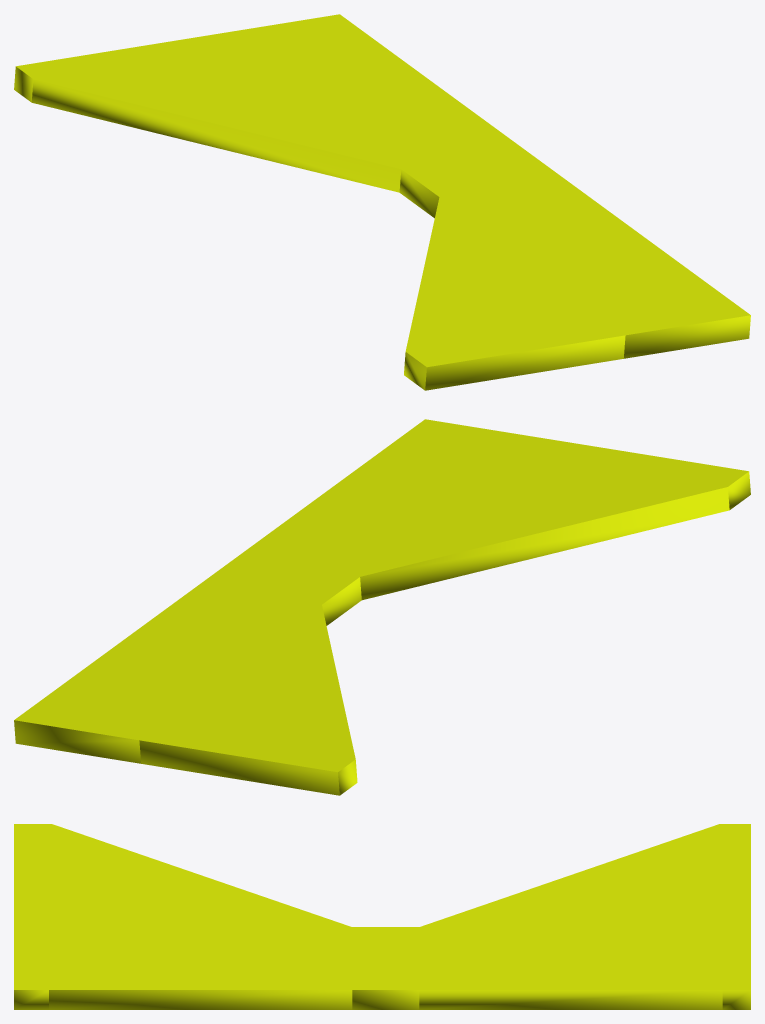
Rendered from Manual_Board.fbx.
3 views of the same model, one above another, from view 1: azimuth 30°, elevation 25°; view 2: azimuth 150°, elevation 25°; view 3: azimuth 270°, elevation 25° (orthographic). The views are drawn at different scales.
Parts seen in each view (by area): view 1: Manual_Board; view 2: Manual_Board; view 3: Manual_Board.
Part boxes in pixels (x1,y1,x2,y2): Manual_Board: [14, 14, 750, 390]; Manual_Board: [14, 419, 750, 795]; Manual_Board: [14, 824, 750, 1009].
Bounding box in the file's own units: 21.14 × 3.1 × 46.2.
